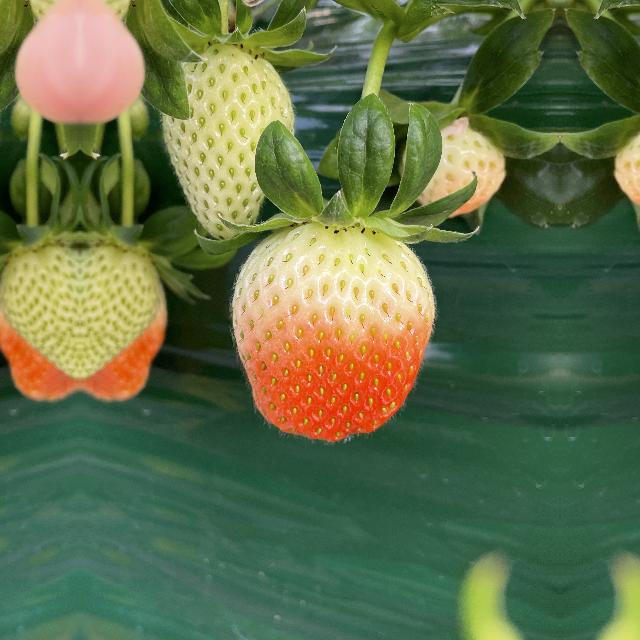Health_25: (165, 29, 295, 240), (82, 231, 152, 383), (8, 231, 78, 383)
Health_50: (405, 105, 505, 215), (615, 105, 640, 215)
Health_75: (229, 212, 441, 454)
